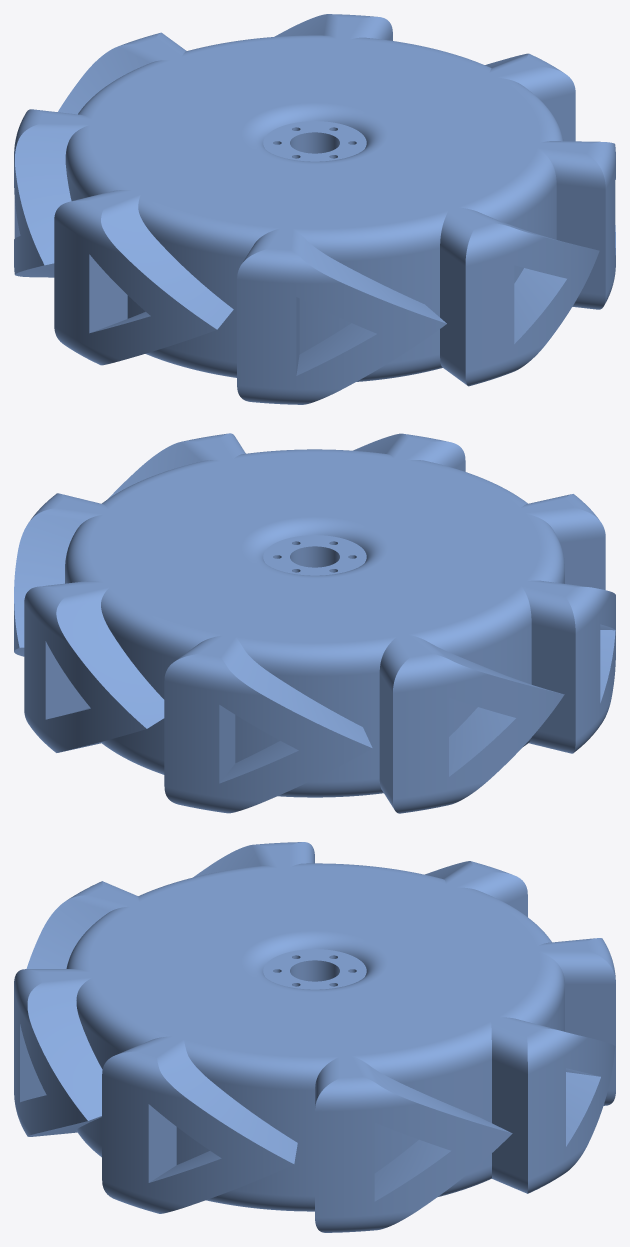
Rendered from wheel.gltf.
3 views of the same model, one above another, from view 1: azimuth 30°, elevation 25°; view 2: azimuth 150°, elevation 25°; view 3: azimuth 270°, elevation 25° (orthographic).
Parts seen in each view (by area): view 1: mesh250, mesh288, mesh293, mesh283, mesh238, mesh251, mesh184, mesh252, mesh254, mesh158, mesh182, mesh172 (+33 smaller); view 2: mesh250, mesh263, mesh258, mesh268, mesh214, mesh228, mesh230, mesh202, mesh158, mesh243, mesh242, mesh293 (+35 smaller); view 3: mesh250, mesh273, mesh278, mesh268, mesh174, mesh192, mesh194, mesh190, mesh206, mesh158, mesh283, mesh207 (+34 smaller).
Boxes of the visible parts, left/top/right/bottom form: mesh250: left=40, top=17, right=589, bottom=249; mesh288: left=237, top=279, right=446, bottom=389; mesh293: left=54, top=220, right=216, bottom=360; mesh283: left=465, top=238, right=599, bottom=372; mesh238: left=15, top=131, right=73, bottom=265; mesh251: left=101, top=207, right=233, bottom=329; mesh184: left=293, top=211, right=447, bottom=261; mesh252: left=138, top=194, right=280, bottom=257; mesh254: left=155, top=238, right=245, bottom=362; mesh158: left=241, top=103, right=388, bottom=164; mesh182: left=339, top=248, right=439, bottom=363; mesh172: left=556, top=184, right=605, bottom=295; mesh250: left=56, top=438, right=573, bottom=657; mesh263: left=164, top=681, right=372, bottom=801; mesh258: left=393, top=674, right=564, bottom=799; mesh268: left=24, top=604, right=146, bottom=749; mesh214: left=56, top=599, right=164, bottom=728; mesh228: left=274, top=672, right=379, bottom=781; mesh230: left=236, top=636, right=396, bottom=676; mesh202: left=14, top=514, right=83, bottom=647; mesh158: left=241, top=517, right=388, bottom=578; mesh243: left=531, top=623, right=575, bottom=739; mesh242: left=408, top=586, right=531, bottom=656; mesh293: left=575, top=592, right=615, bottom=739; mesh250: left=40, top=845, right=589, bottom=1077; mesh273: left=315, top=1104, right=512, bottom=1217; mesh278: left=102, top=1074, right=293, bottom=1205; mesh268: left=528, top=1037, right=615, bottom=1179; mesh174: left=27, top=988, right=102, bottom=1120; mesh192: left=211, top=1081, right=314, bottom=1195; mesh194: left=184, top=1039, right=339, bottom=1090; mesh190: left=159, top=1052, right=297, bottom=1163; mesh206: left=352, top=1021, right=491, bottom=1083; mesh158: left=241, top=931, right=388, bottom=992; mesh283: left=14, top=988, right=87, bottom=1134; mesh207: left=492, top=1059, right=527, bottom=1180.
Size of the model in its own units: 0.361 by 0.1 by 0.361.
